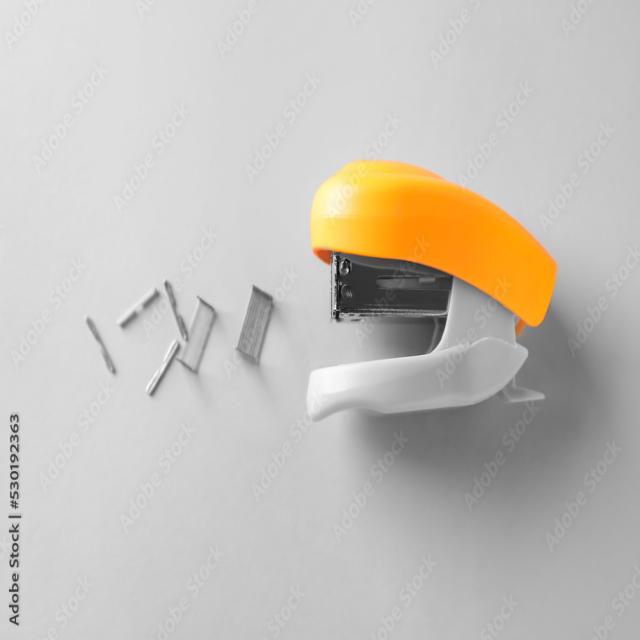Stapler: (279, 111, 598, 480)
